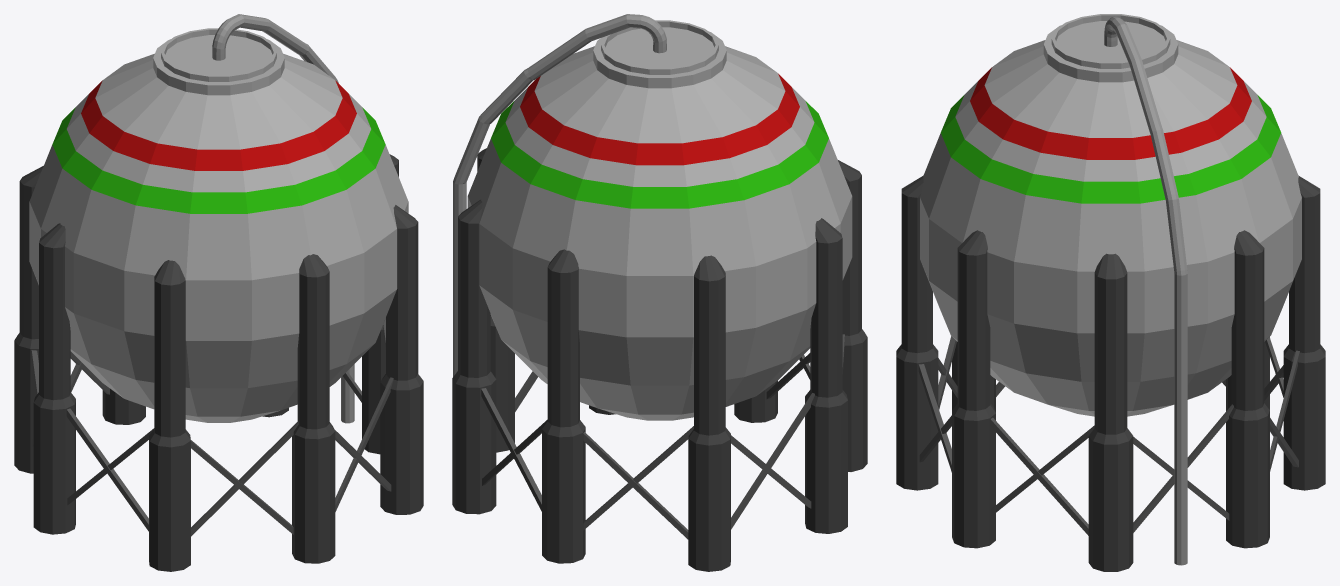
The model's file is SM_oilbase.FBX.
The picture shows the model from 3 angles, left to right: view 1: azimuth 30°, elevation 25°; view 2: azimuth 150°, elevation 25°; view 3: azimuth 270°, elevation 25°; orthographic projection. The views are drawn at different scales.
Visible parts, largest first — view 1: SM_oilbase; view 2: SM_oilbase; view 3: SM_oilbase.
Part boxes in pixels (left/top/right/bottom): SM_oilbase: left=14, top=14, right=423, bottom=571; SM_oilbase: left=452, top=14, right=867, bottom=571; SM_oilbase: left=896, top=14, right=1325, bottom=571.
Size of the model in its own units: 765 by 924 by 765.
